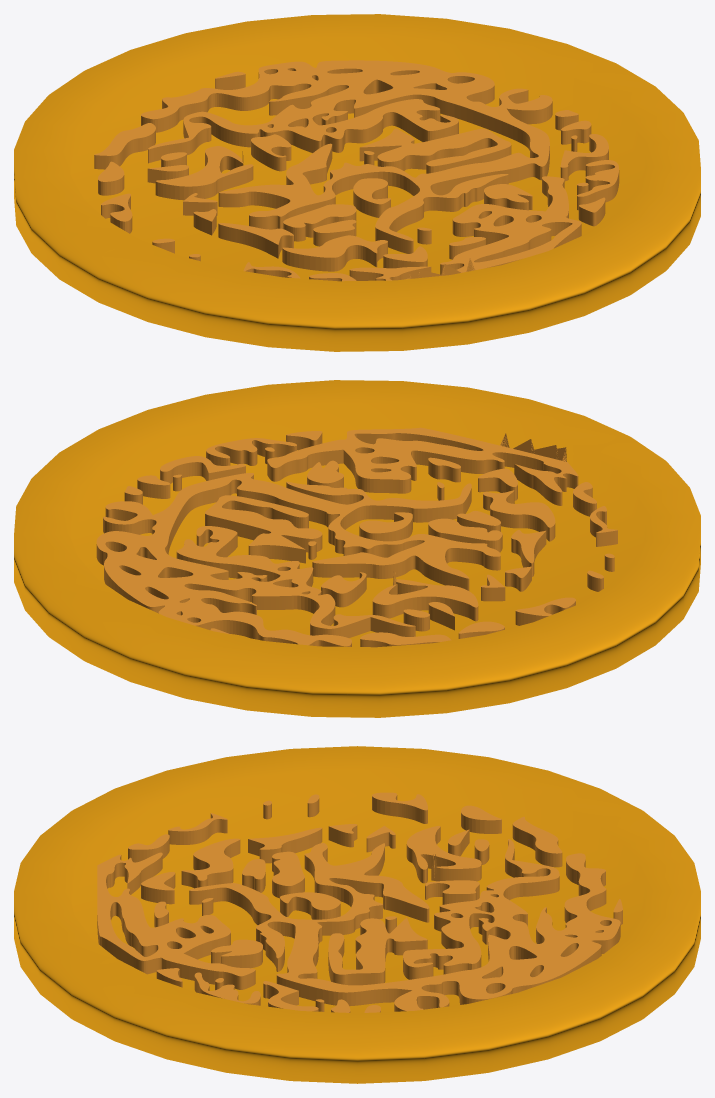
The model's file is SM_Coin_10(raihan).fbx.
The picture shows the model from 3 angles, top to bottom: view 1: azimuth 30°, elevation 25°; view 2: azimuth 150°, elevation 25°; view 3: azimuth 270°, elevation 25°; orthographic projection.
Visible parts, largest first — view 1: m.coin10, T.coin10; view 2: m.coin10, T.coin10; view 3: m.coin10, T.coin10.
Boxes of the visible parts, x1,y1,x2,y2 form: m.coin10: [14, 14, 700, 351]; T.coin10: [94, 60, 619, 281]; m.coin10: [14, 380, 700, 717]; T.coin10: [96, 427, 617, 647]; m.coin10: [14, 746, 700, 1083]; T.coin10: [97, 792, 622, 1012].
Size of the model in its own units: 4600 by 362 by 4600.
